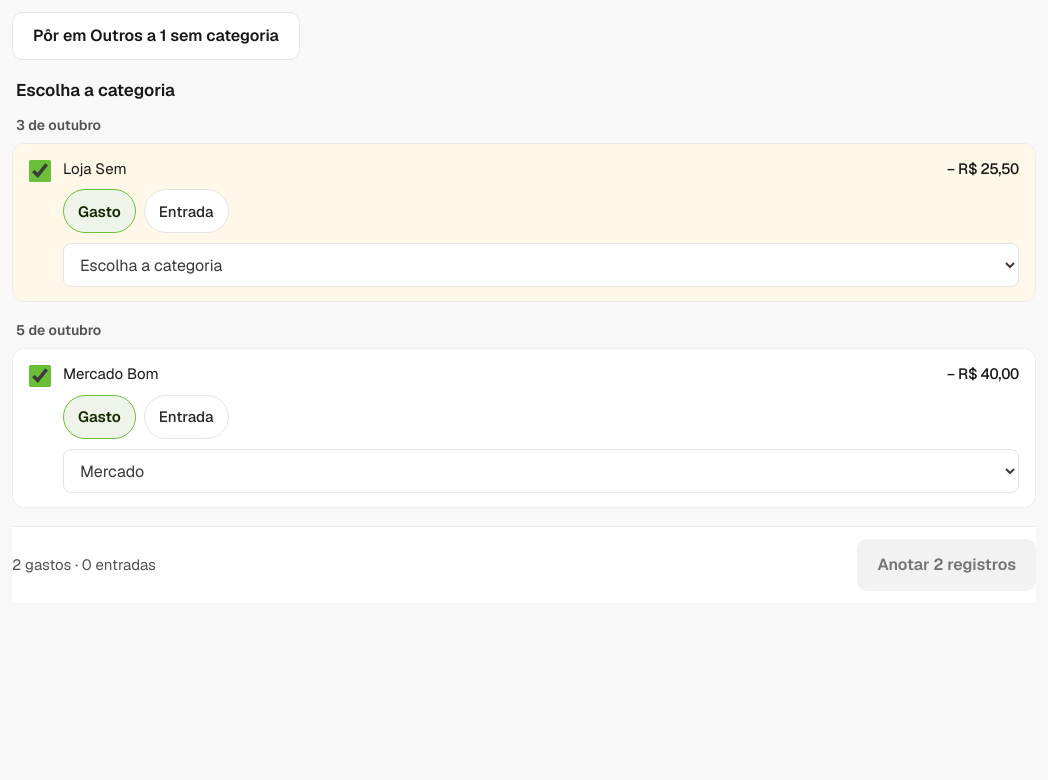
sem categoria vêm primeiro, destacadas; "Anotar" só liga depois de escolher
The image size is (1048, 780).
Expected: the text "Loja Sem" is shown, top-left (63, 159), bottom-right (127, 178)
Expected: the heading "3 de outubro" is shown, top-left (16, 116), bottom-right (101, 134)
Select "Casa" in the dropdown labelled "Loja Sem − R$ 25,50" at (541, 265), box top-left (63, 243), bottom-right (1019, 287)
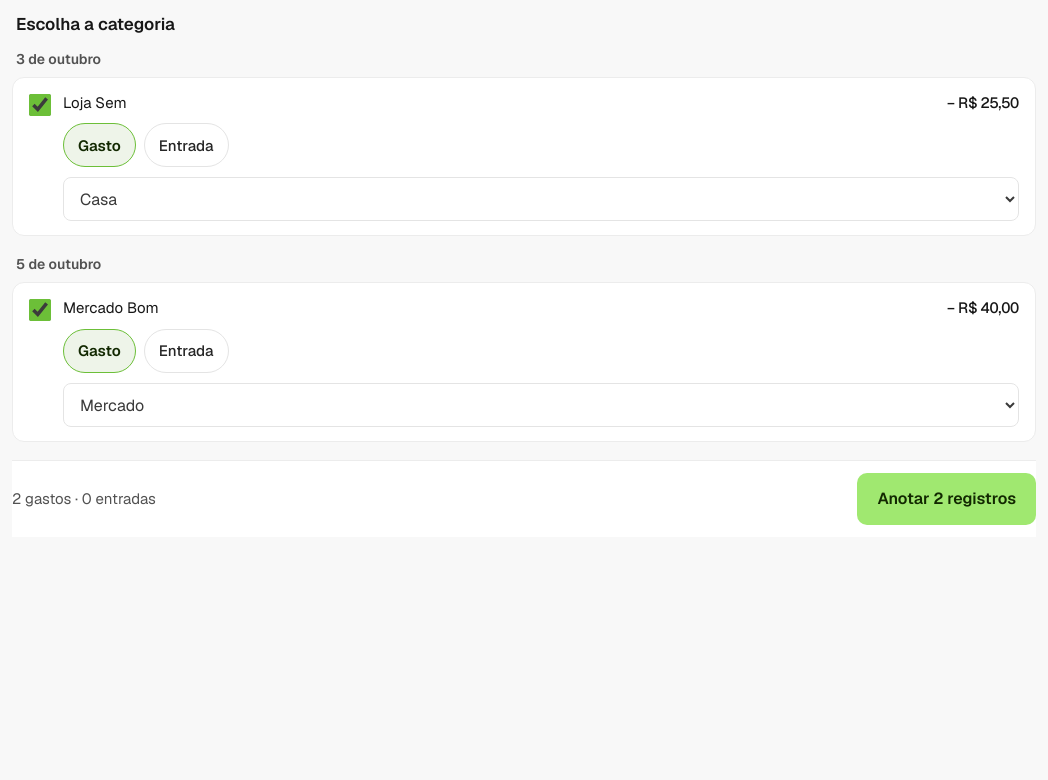
Expected: the text "Loja Sem" is shown, top-left (63, 93), bottom-right (127, 112)
Result: the button "Anotar 2 registros" is enabled at top-left (857, 473), bottom-right (1036, 525)
